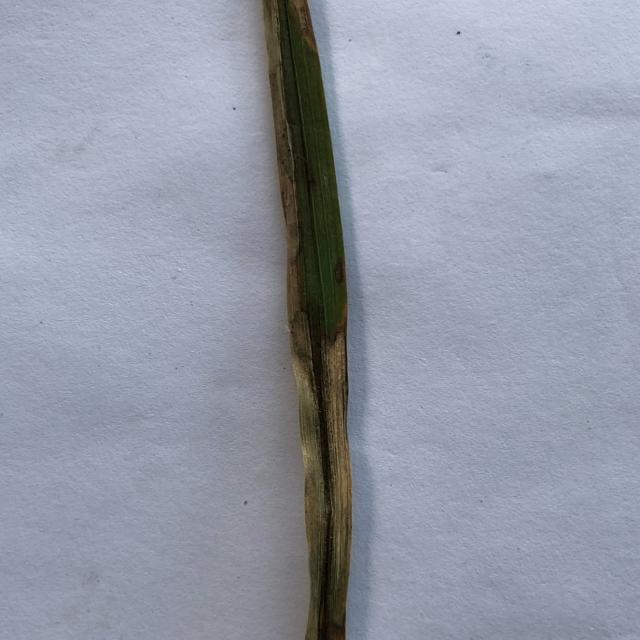leaf blight: (254, 0, 305, 331), (288, 333, 349, 589), (273, 0, 321, 61), (296, 583, 321, 640), (328, 590, 349, 640)
